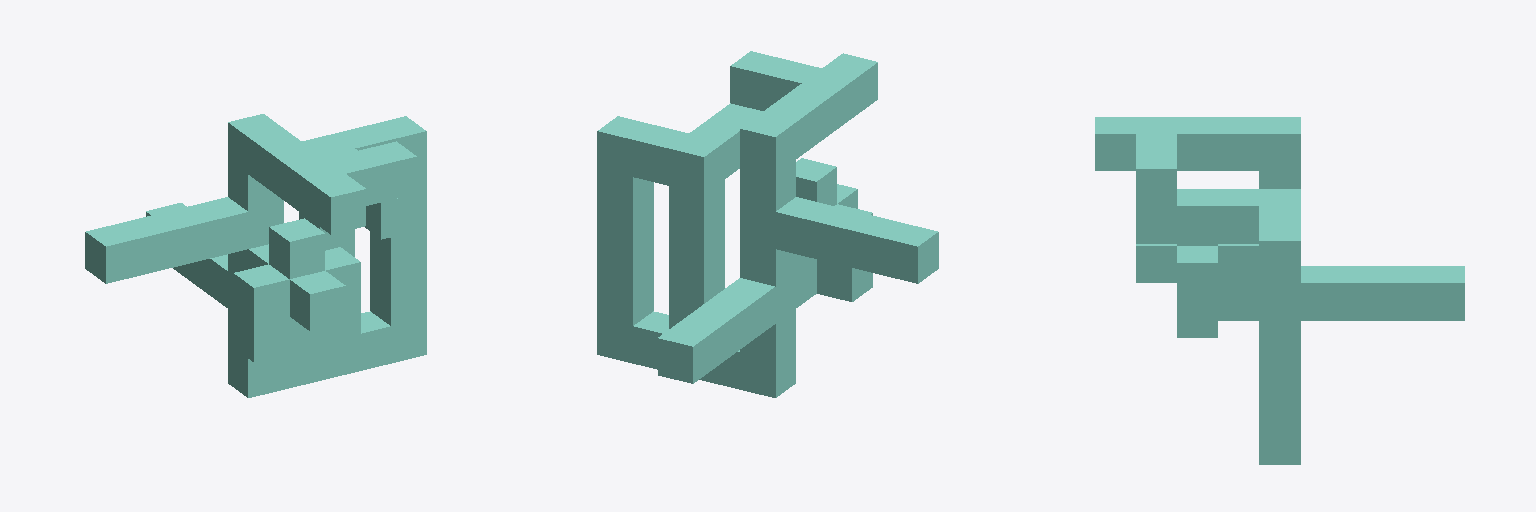
Rendered from sample3.obj.
3 renders of one model, left to right at view 1: azimuth 30°, elevation 25°; view 2: azimuth 150°, elevation 25°; view 3: azimuth 270°, elevation 25°, orthographic.
Visible parts, largest first — view 1: Box001; view 2: Box001; view 3: Box001.
Part boxes in pixels (x1,y1,x2,y2): Box001: (85, 114, 426, 397); Box001: (597, 51, 938, 397); Box001: (1095, 117, 1464, 464).
Bounding box in the file's own units: 9 × 7 × 9.